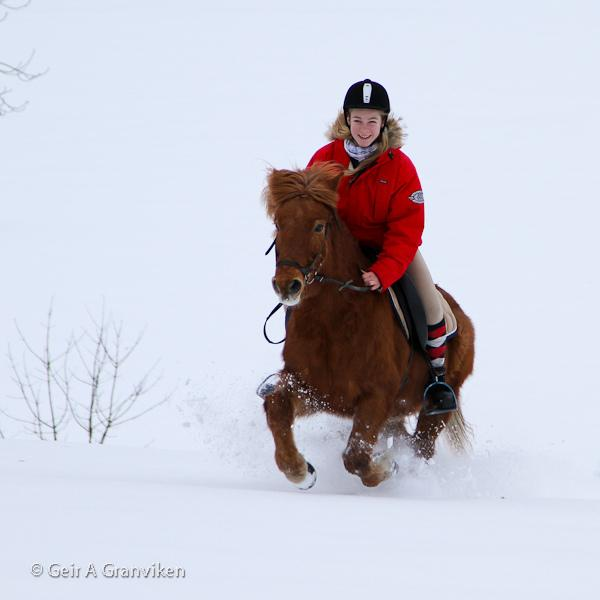person: (305, 79, 452, 410)
